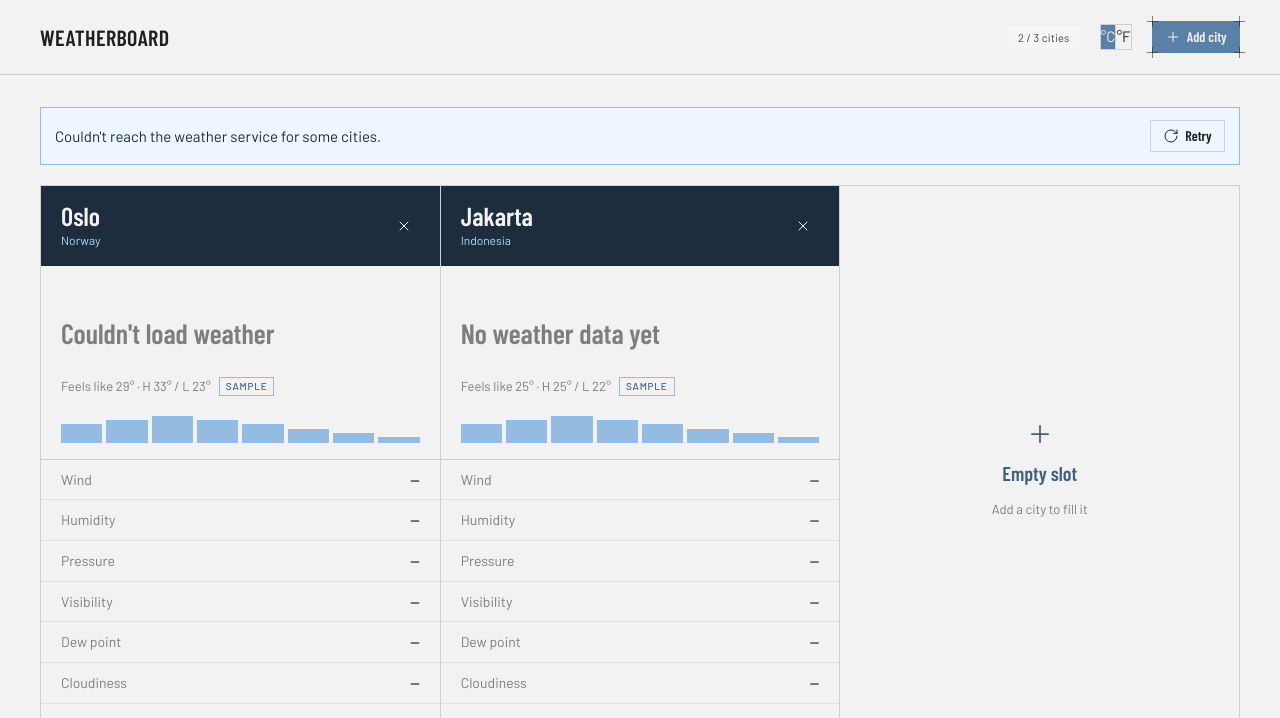
Test: App › retries only the cities whose weather failed to load
The width and height of the screenshot is (1280, 718).
Expected: the text "Couldn't reach the weather service for some cities." is shown, [55,125,381,148]
What coordinates should you click on to do the following:
click the button "Retry"
I would click on:
 (1188, 136)
Its box is [1150,120,1225,152].
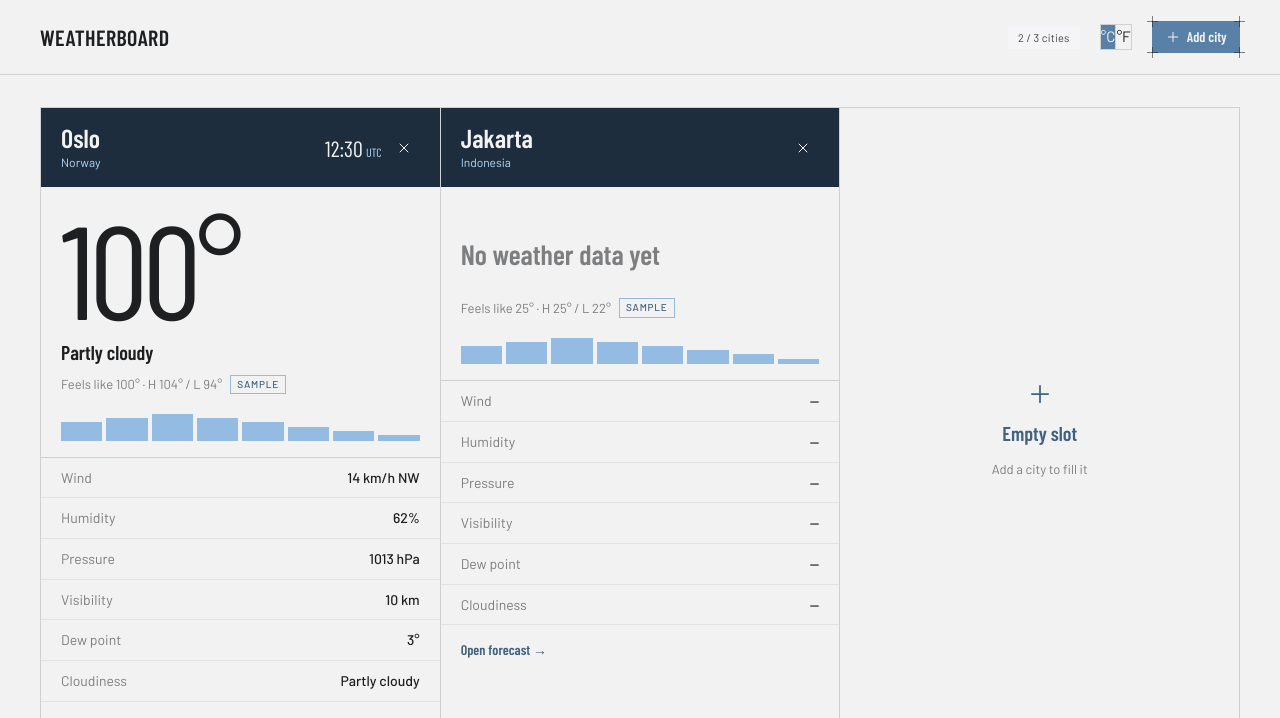
Now the text "100°" is shown, box [61,188,238,346]
Now the text "Couldn't reach the weather service for some cities." is gone
